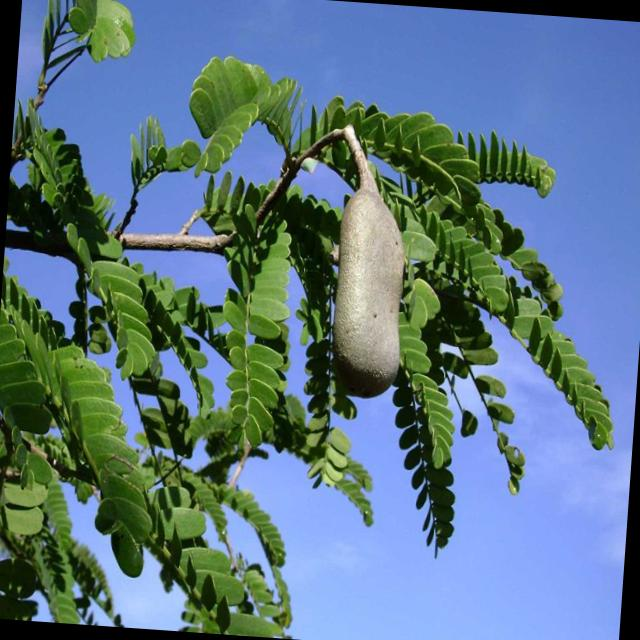Tamarind: (11, 129, 348, 437), (382, 65, 604, 518), (8, 277, 278, 584)
